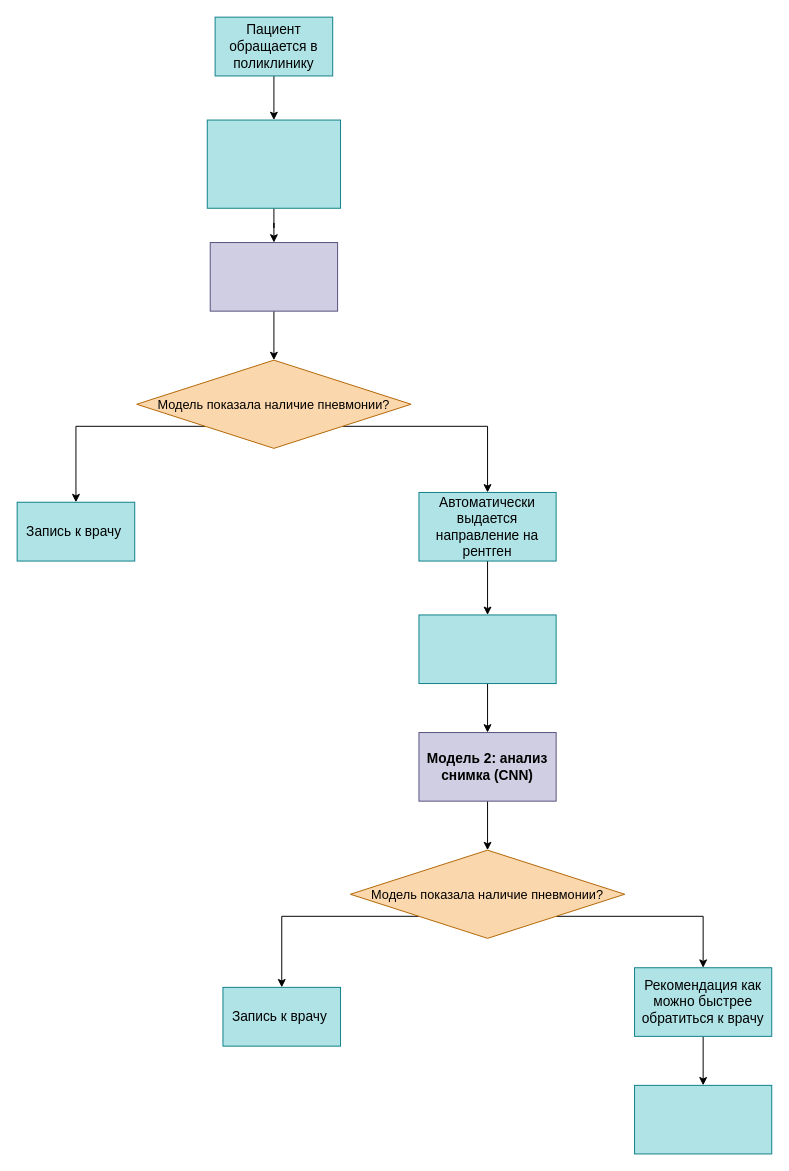
Some shapes in this 789 by 1171 pixel diagram are drawn without their labels. The centre of each missing label's shape, as x and y in pixels:
"Заполняет анкету с симптомами и базовыми показателями" belongs at point 273,163.
"Льготная запись на прием" belongs at point 703,1119.
"Модель 1: анализ анкеты (полносвязная нейронная сеть)" belongs at point 273,276.
"Рентгеновский снимок грудной клетки" belongs at point 487,649.
